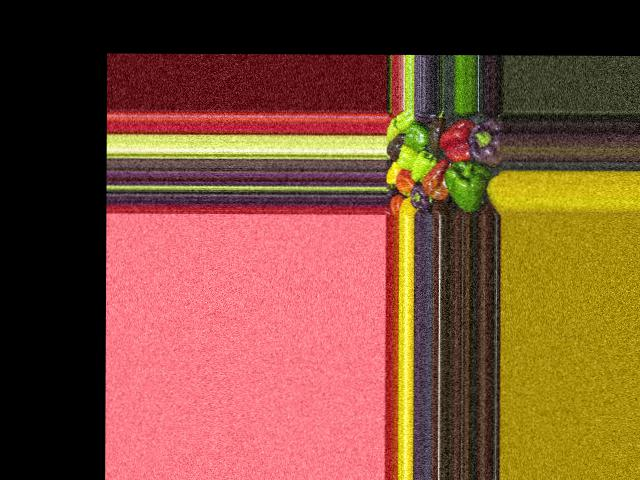bell_pepper: (406, 184, 431, 212)
